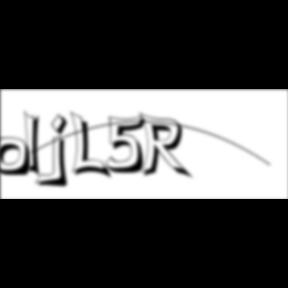5: (104, 114, 152, 176)
L: (70, 110, 114, 182)
R: (139, 112, 196, 182)
j: (48, 113, 76, 191)
l: (24, 108, 48, 182)
o: (0, 137, 34, 179)
